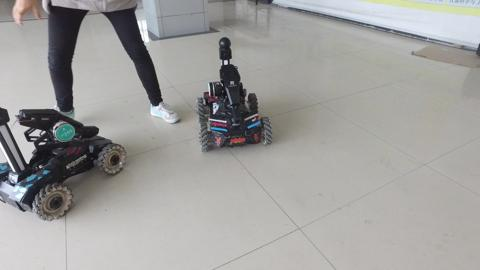chariot: (1, 100, 129, 224), (190, 34, 274, 158)
